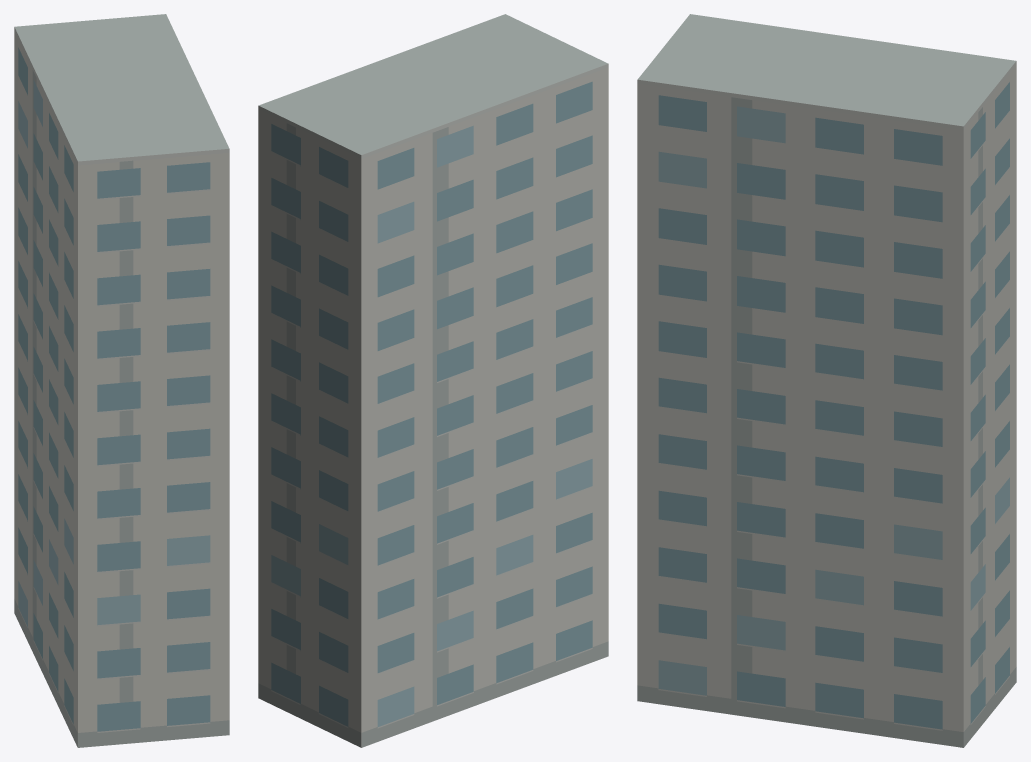
File: residential-f4dd0d73-1eba-4702-a811-eff80ddf2e44.glb
3 views of the same model, side by side, from view 1: azimuth 30°, elevation 25°; view 2: azimuth 150°, elevation 25°; view 3: azimuth 270°, elevation 25° (orthographic). The views are drawn at different scales.
Visible parts, largest first — view 1: residential-f4dd0d73-1eba-4702-a811-eff80ddf2e44.tmp; view 2: residential-f4dd0d73-1eba-4702-a811-eff80ddf2e44.tmp; view 3: residential-f4dd0d73-1eba-4702-a811-eff80ddf2e44.tmp.
Boxes of the visible parts, left/top/right/bottom form: residential-f4dd0d73-1eba-4702-a811-eff80ddf2e44.tmp: left=14, top=14, right=229, bottom=747; residential-f4dd0d73-1eba-4702-a811-eff80ddf2e44.tmp: left=258, top=14, right=608, bottom=747; residential-f4dd0d73-1eba-4702-a811-eff80ddf2e44.tmp: left=637, top=14, right=1016, bottom=747.
Bounding box in the file's own units: 14.36 × 37 × 20.46.
